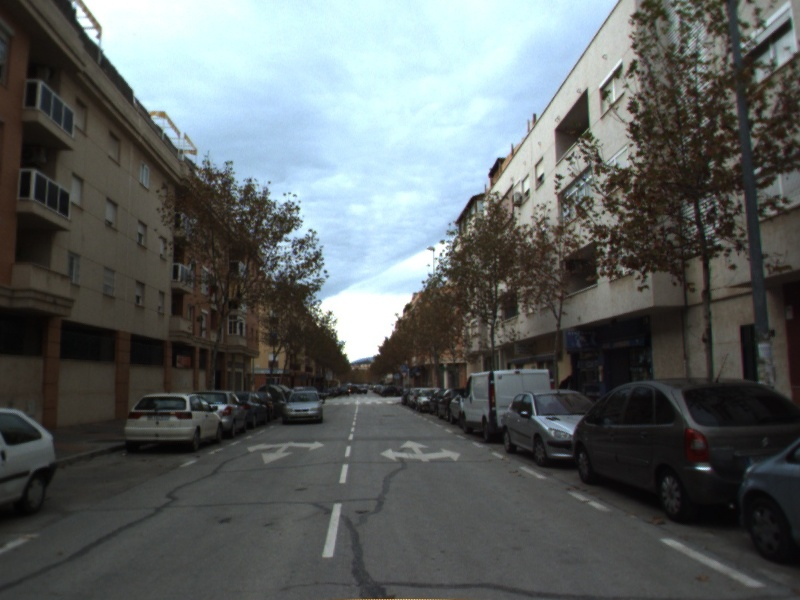STRAIGHT_LEFT_RIGHT: (378, 439, 463, 464)
